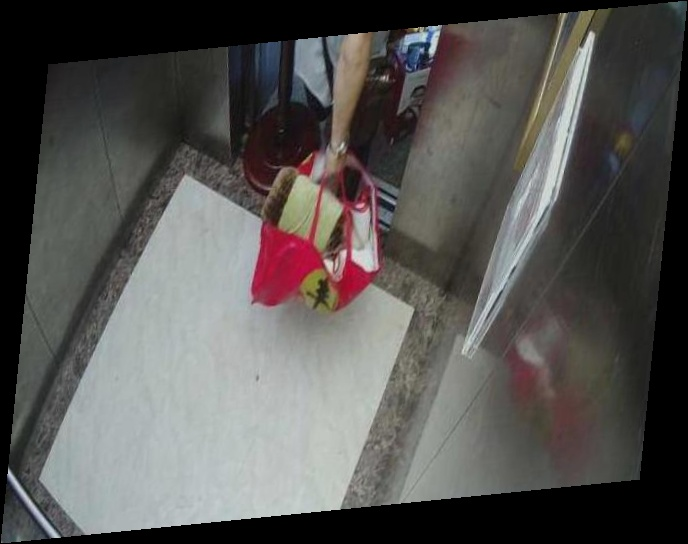box: (225, 152, 406, 323)
